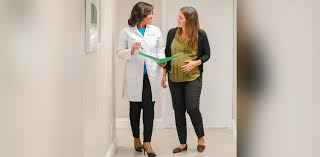Bad: (117, 2, 211, 157)
